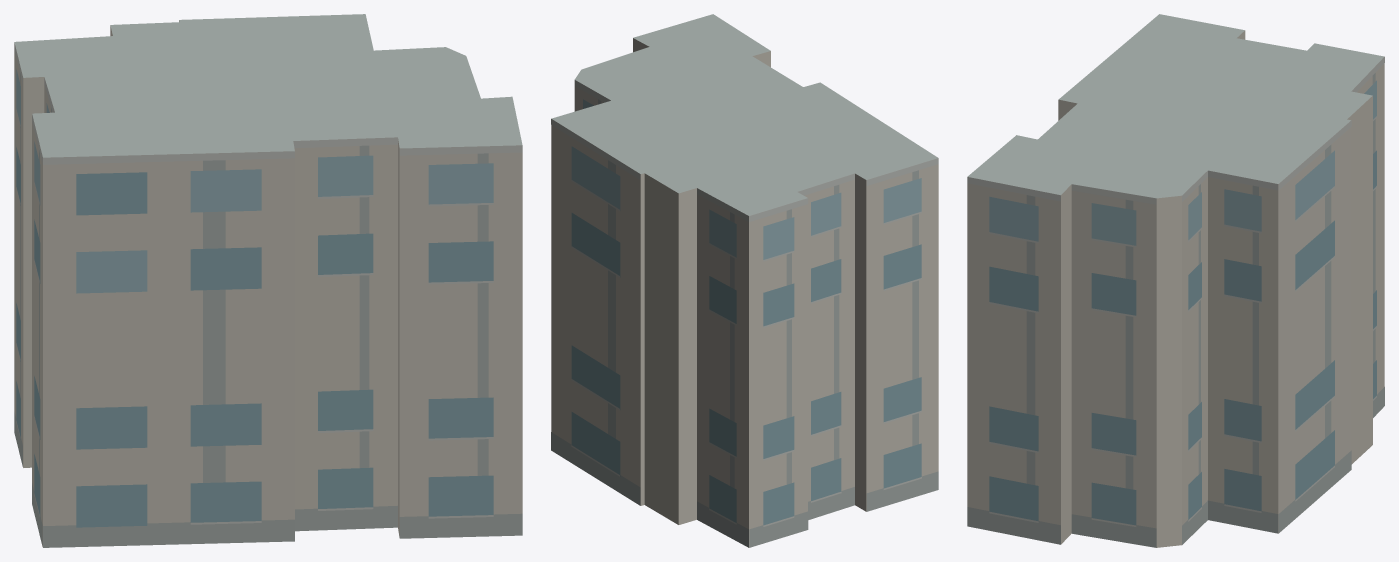
File: survey-upis-33025771.glb
3 views of the same model, side by side, from view 1: azimuth 30°, elevation 25°; view 2: azimuth 150°, elevation 25°; view 3: azimuth 270°, elevation 25° (orthographic). The views are drawn at different scales.
Parts seen in each view (by area): view 1: survey-upis-33025771.tmp; view 2: survey-upis-33025771.tmp; view 3: survey-upis-33025771.tmp.
Part boxes in pixels (x1,y1,x2,y2): survey-upis-33025771.tmp: (14, 14, 522, 547); survey-upis-33025771.tmp: (551, 14, 938, 547); survey-upis-33025771.tmp: (967, 14, 1384, 547).
Bounding box in the file's own units: 14.94 × 13.2 × 14.3.
